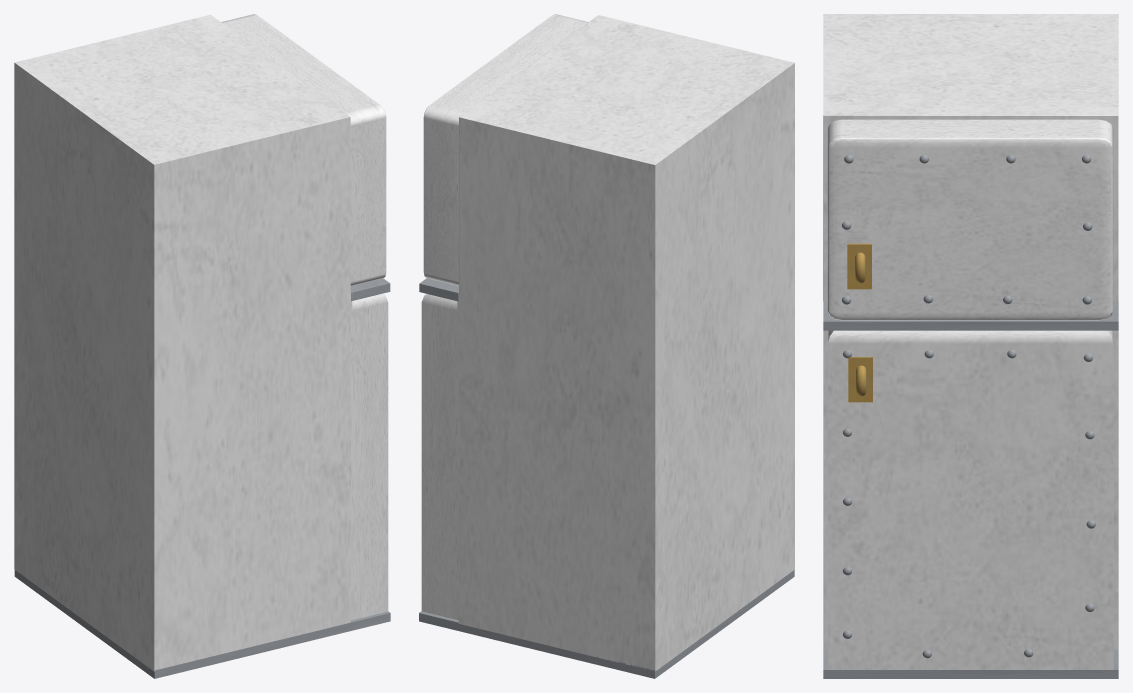
Rendered from refri_completo.obj.
The picture shows the model from 3 angles, left to right: view 1: azimuth 30°, elevation 25°; view 2: azimuth 150°, elevation 25°; view 3: azimuth 270°, elevation 25°; orthographic projection. The views are drawn at different scales.
Visible parts, largest first — view 1: polySurface1128; view 2: polySurface1128; view 3: polySurface1128.
Boxes of the visible parts, left/top/right/bottom form: polySurface1128: left=14, top=14, right=390, bottom=678; polySurface1128: left=419, top=14, right=794, bottom=678; polySurface1128: left=823, top=14, right=1118, bottom=678.
Bounding box in the file's own units: 0.9466 × 1.89 × 0.9303.
Materials: 3 (3 with a texture image).
